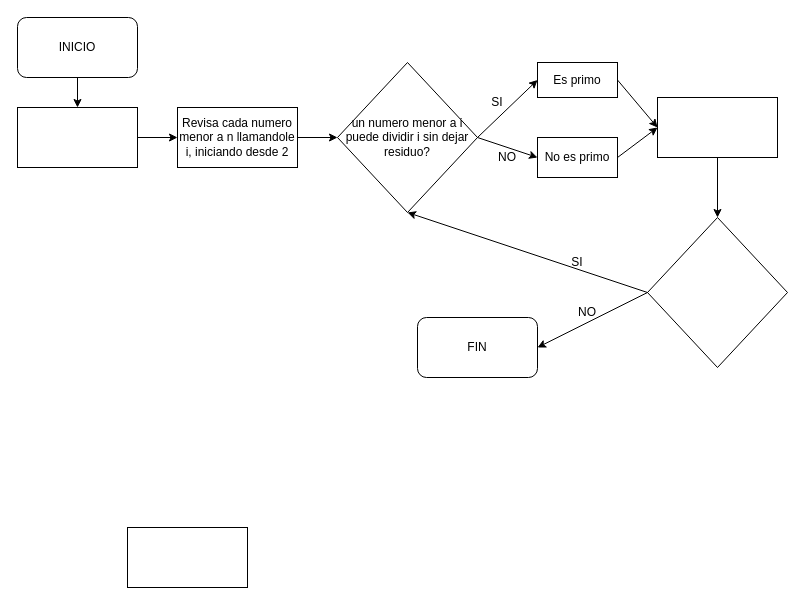
The diagram is 805 pixels wide and 605 high, and some of its shapes have lost their labels. The centre of each missing label's shape, as x and y in pixels:
"El numero i es menor o igual a n?" goes at point 717,292.
"Elegir un numero natural n" goes at point 77,137.
"Suma 1 al numero n" goes at point 717,127.
